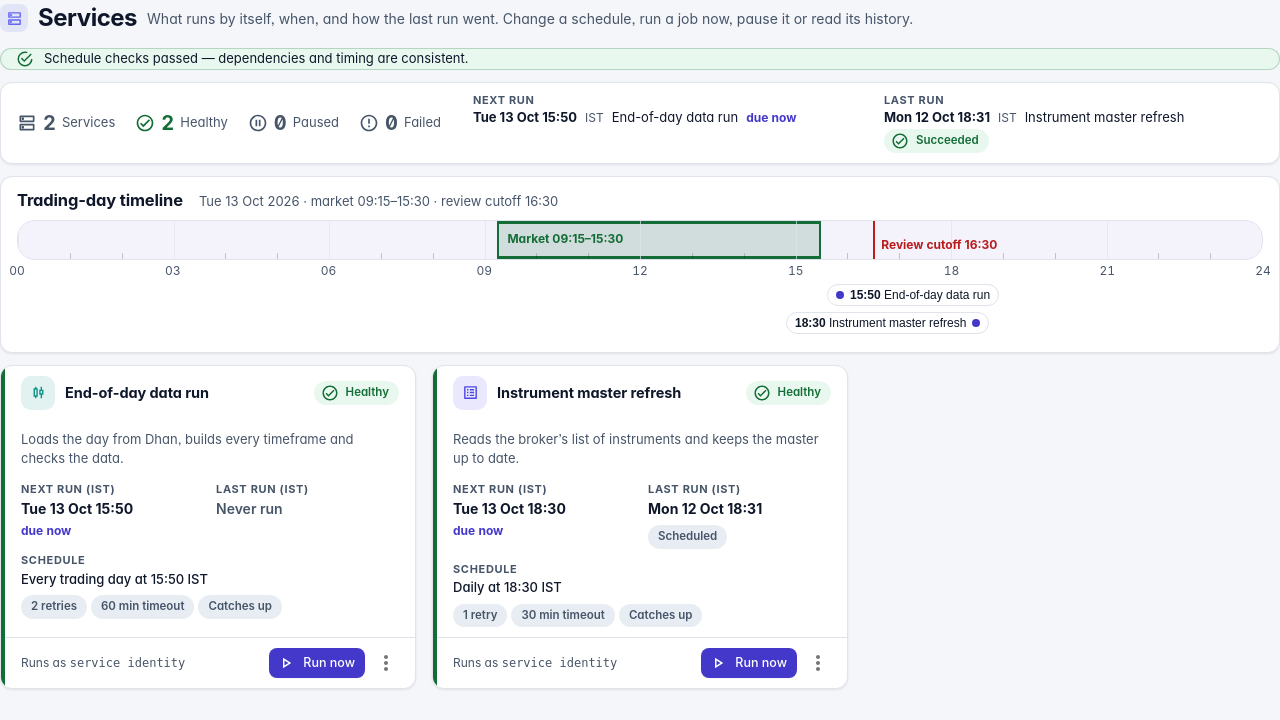
Test: Services: the History drawer › says there are no runs yet
Click the button named "Actions for End-of-day data run" at (386, 663), box [369,646,403,680]
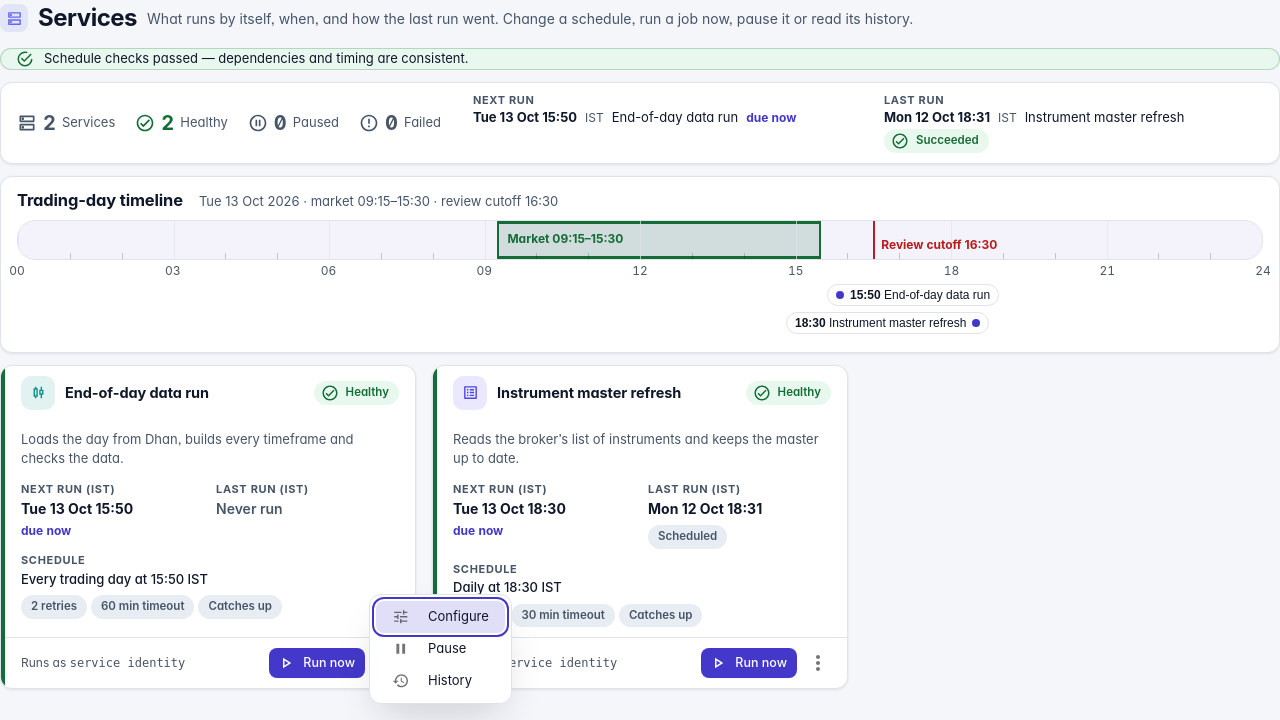
Click the menu item "History" at (432, 681), box [392,672,472,690]
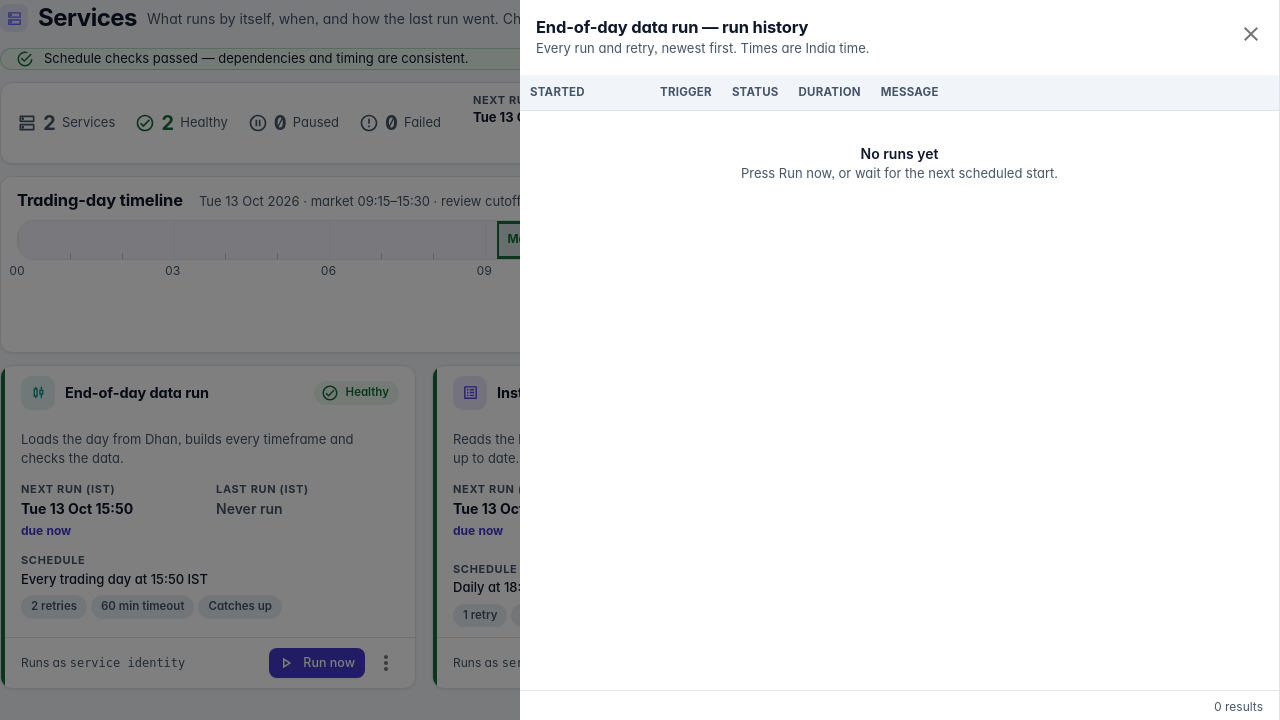
Expected: the text "No runs yet" is shown, [861,145,938,162]
